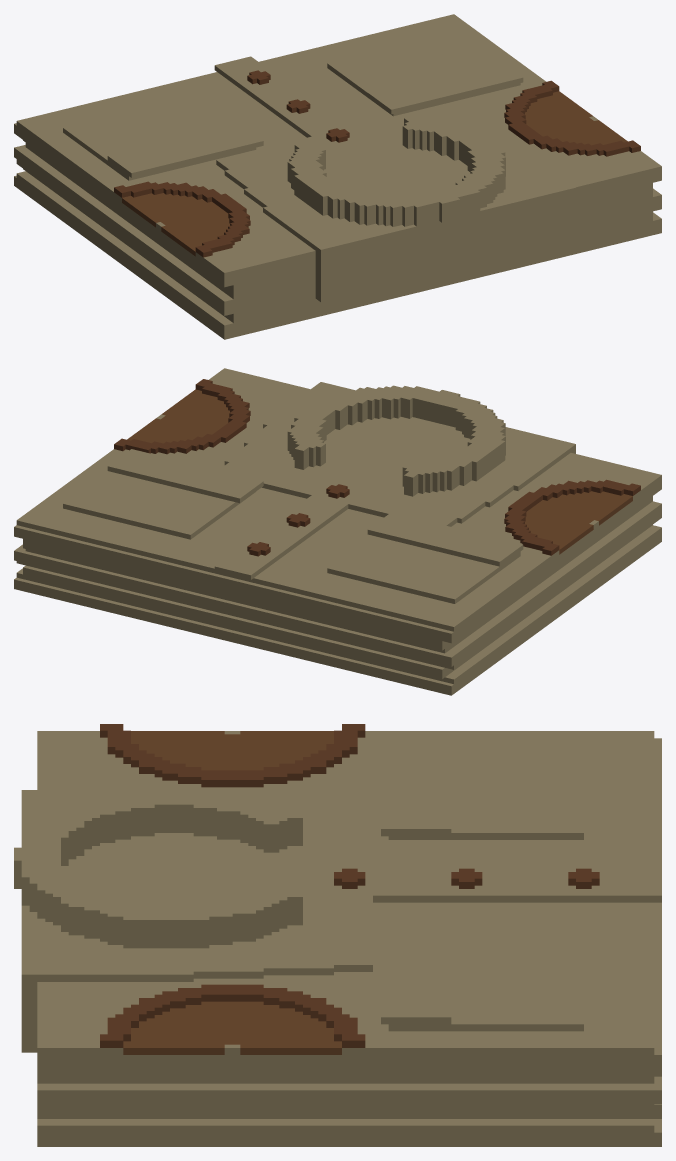
The model's file is sleeveless_duster.glb.
3 views of the same model, one above another, from view 1: azimuth 30°, elevation 25°; view 2: azimuth 150°, elevation 25°; view 3: azimuth 270°, elevation 25° (orthographic). The views are drawn at different scales.
Parts seen in each view (by area): view 1: sleeveless_duster:compound; view 2: sleeveless_duster:compound; view 3: sleeveless_duster:compound.
Boxes of the visible parts, x1=… form: sleeveless_duster:compound: x1=14, y1=14, x2=661, y2=339; sleeveless_duster:compound: x1=14, y1=368, x2=661, y2=695; sleeveless_duster:compound: x1=14, y1=724, x2=661, y2=1146.
Bounding box in the file's own units: 0.384 × 0.076 × 0.332.
